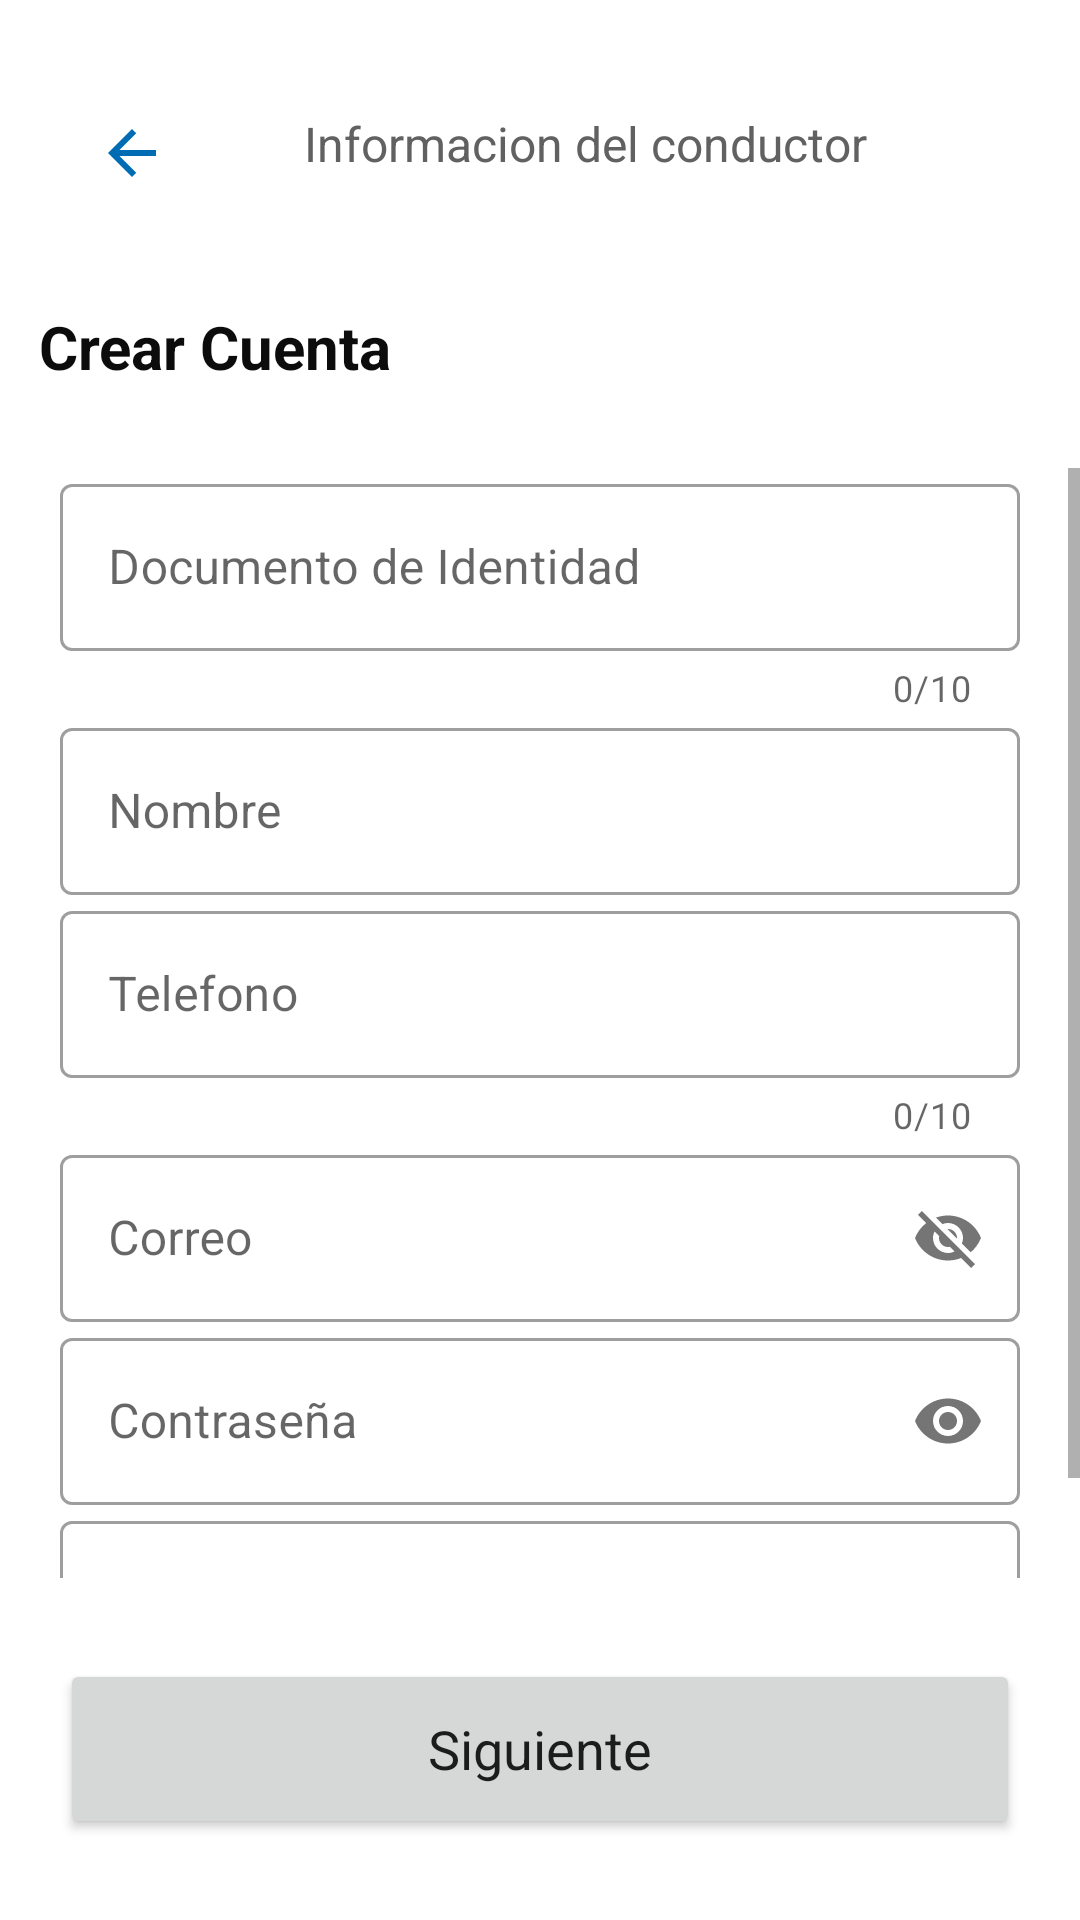

Icon click points for this 1080w x 1920h phone screenshot, format [x,y]:
flecha atras: [132,153]
